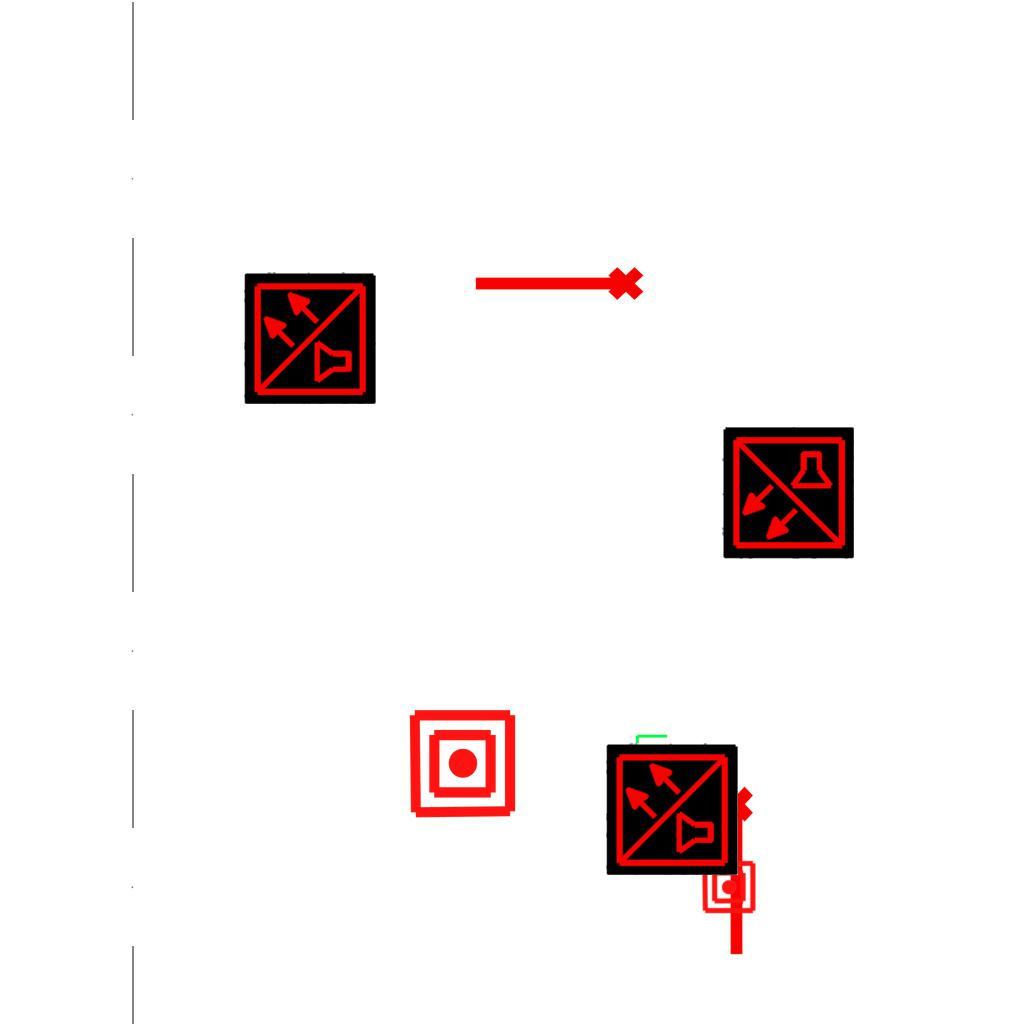ASR_Ansaugoeffnung: (716, 784, 762, 960), (470, 263, 646, 309)
Datenanschluss_zweifach: (604, 732, 707, 801)
NAM-Nichtautomatischer_Melder: (406, 707, 519, 820), (701, 859, 757, 915)
OKW_Multisensormelder_(Kombination_optischer_Rauch-Kahlenmonoxid_Waerme-Melder): (722, 427, 854, 559), (244, 272, 376, 404), (606, 743, 738, 875)
